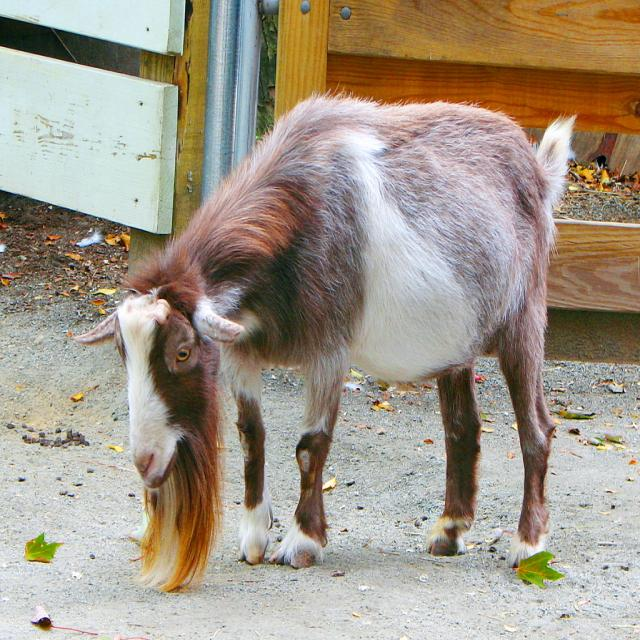Goat: (70, 78, 578, 591)
